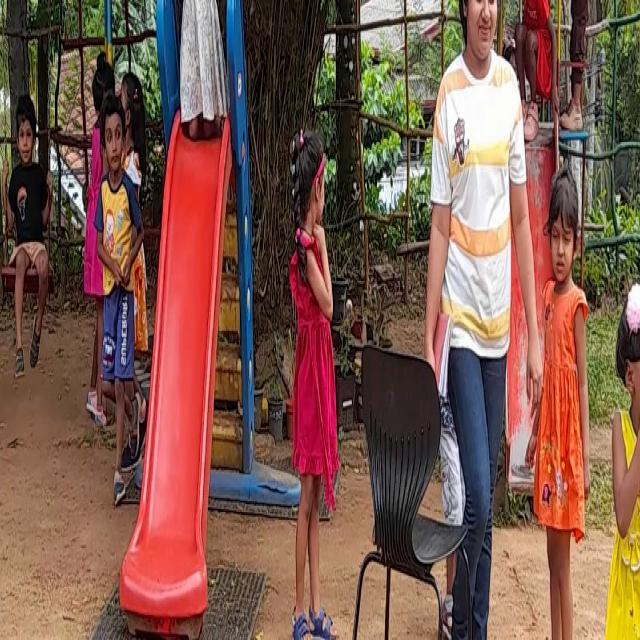adult: (429, 0, 527, 640)
child: (537, 104, 607, 640), (281, 86, 346, 640), (0, 74, 57, 372), (596, 265, 640, 640), (101, 94, 132, 505), (174, 0, 223, 137)
